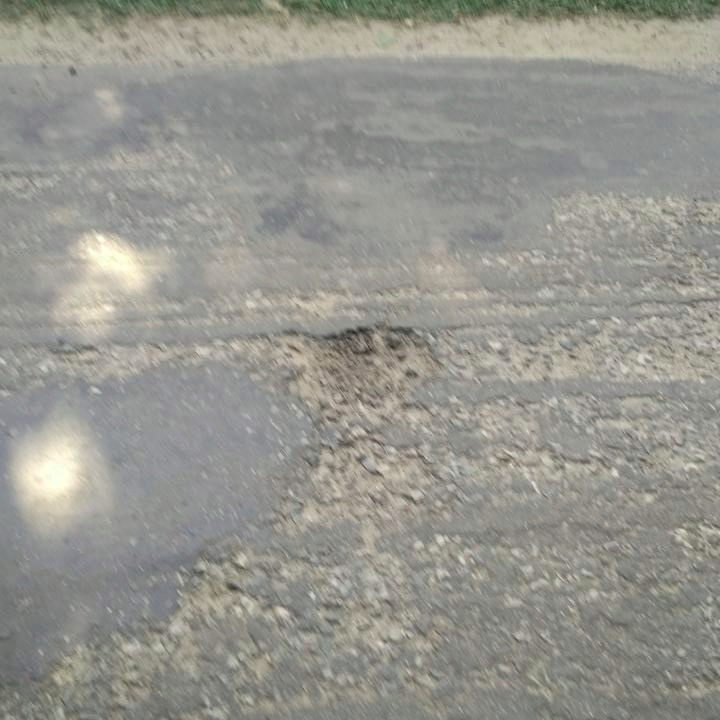pothole: (274, 315, 440, 423)
